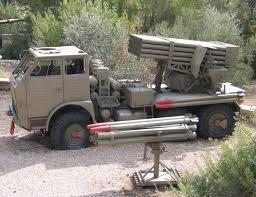MIL_SAM_TEL: (9, 32, 245, 148)
